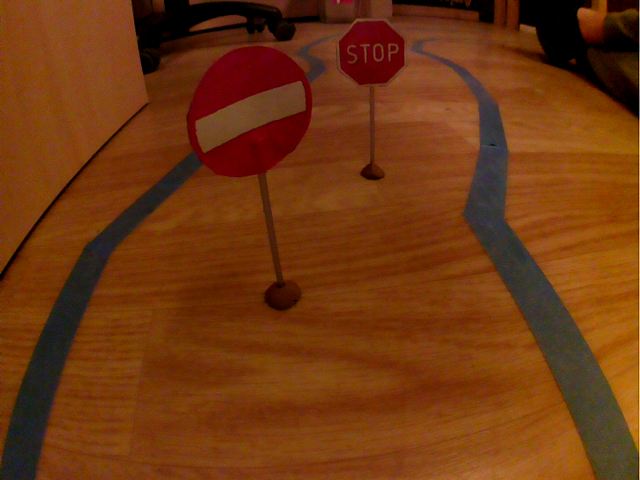Stop: (331, 13, 413, 92)
Zakaz: (180, 38, 317, 180)
